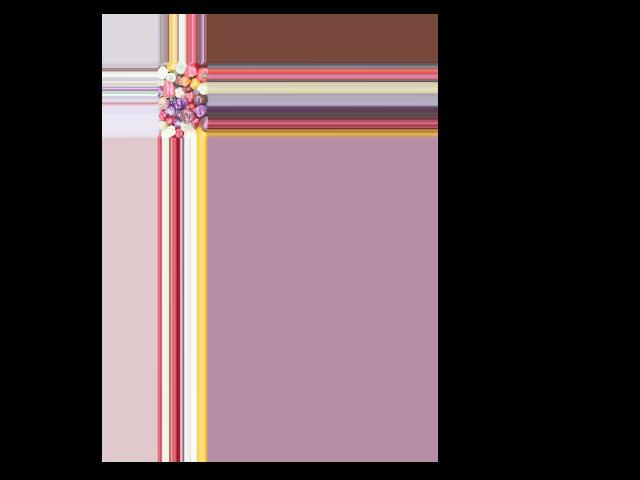bell_pepper: (177, 62, 186, 75)
